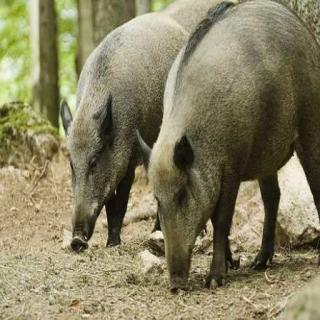Pig: (136, 0, 320, 312), (40, 0, 178, 296)
